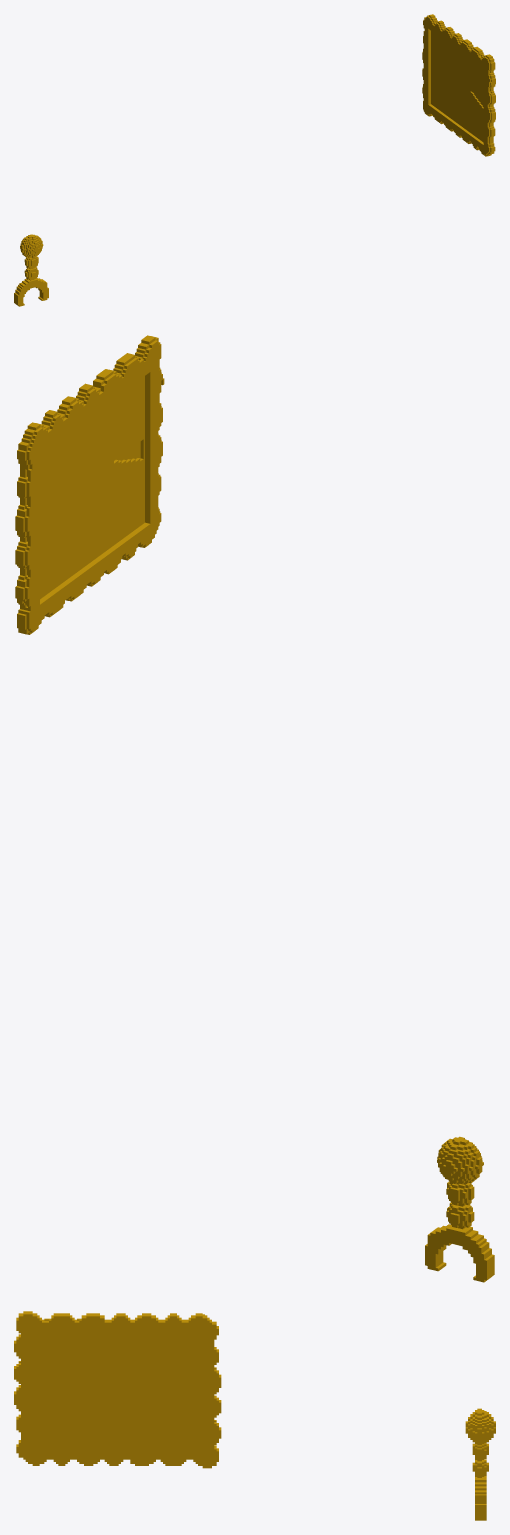
File: goodnight-moon-3-scenemetal.obj
3 views of the same model, one above another, from view 1: azimuth 30°, elevation 25°; view 2: azimuth 150°, elevation 25°; view 3: azimuth 270°, elevation 25° (orthographic). The views are drawn at different scales.
Parts seen in each view (by area): view 1: scenemetal; view 2: scenemetal; view 3: scenemetal.
Part boxes in pixels (x1=…): scenemetal: x1=14, y1=14, x2=495, y2=306; scenemetal: x1=15, y1=335, x2=494, y2=1282; scenemetal: x1=14, y1=1311, x2=495, y2=1520.
Size of the model in its own units: 24.1 by 20 by 20.7.
1 material, 1 textured.
